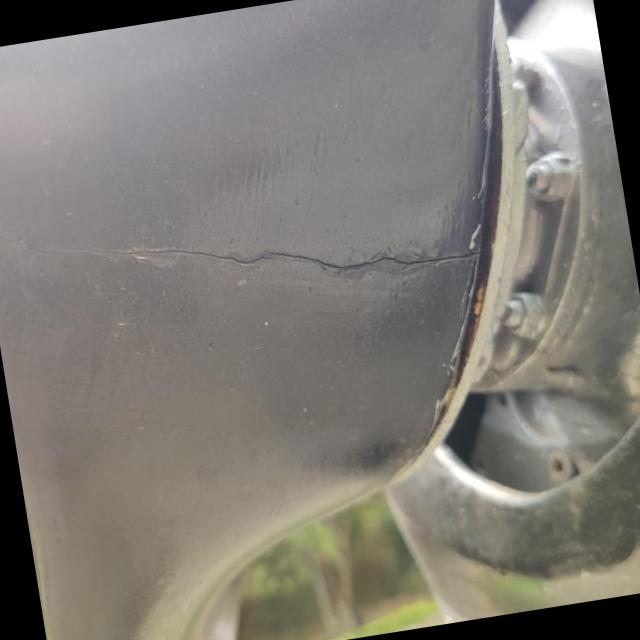Crack: (217, 204, 486, 287)
